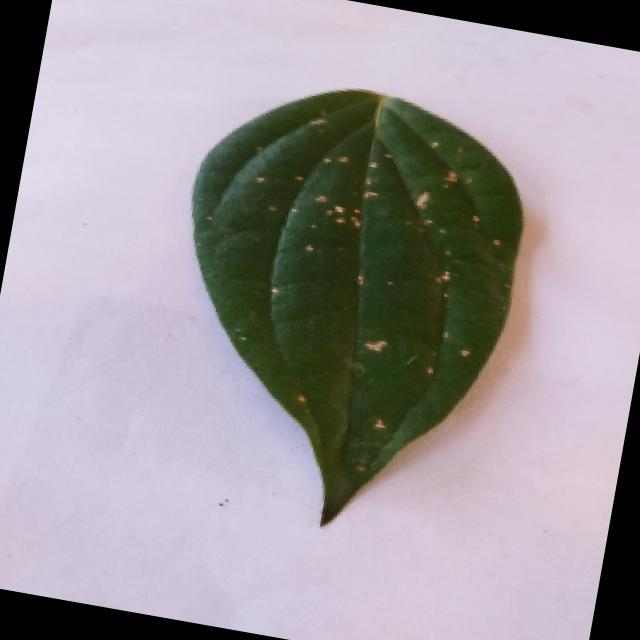pollu-disease: (128, 51, 560, 552)
